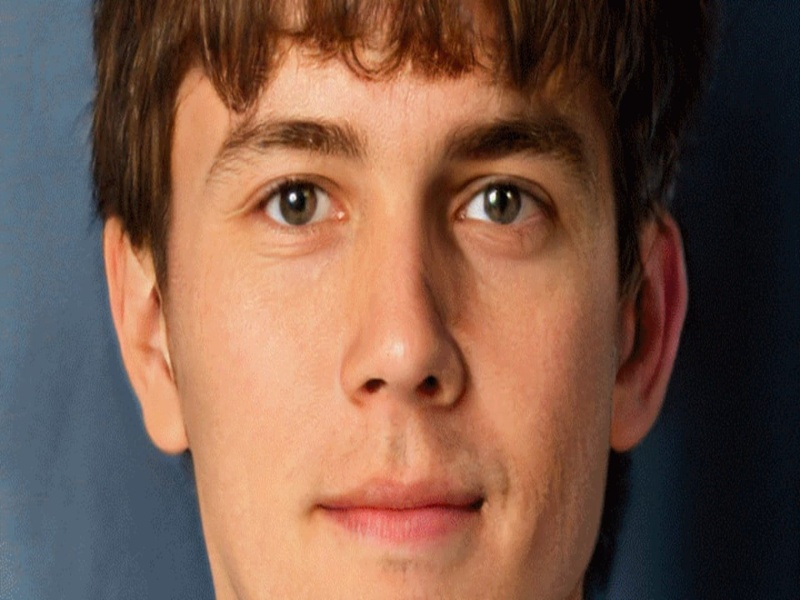face: (181, 64, 612, 576)
